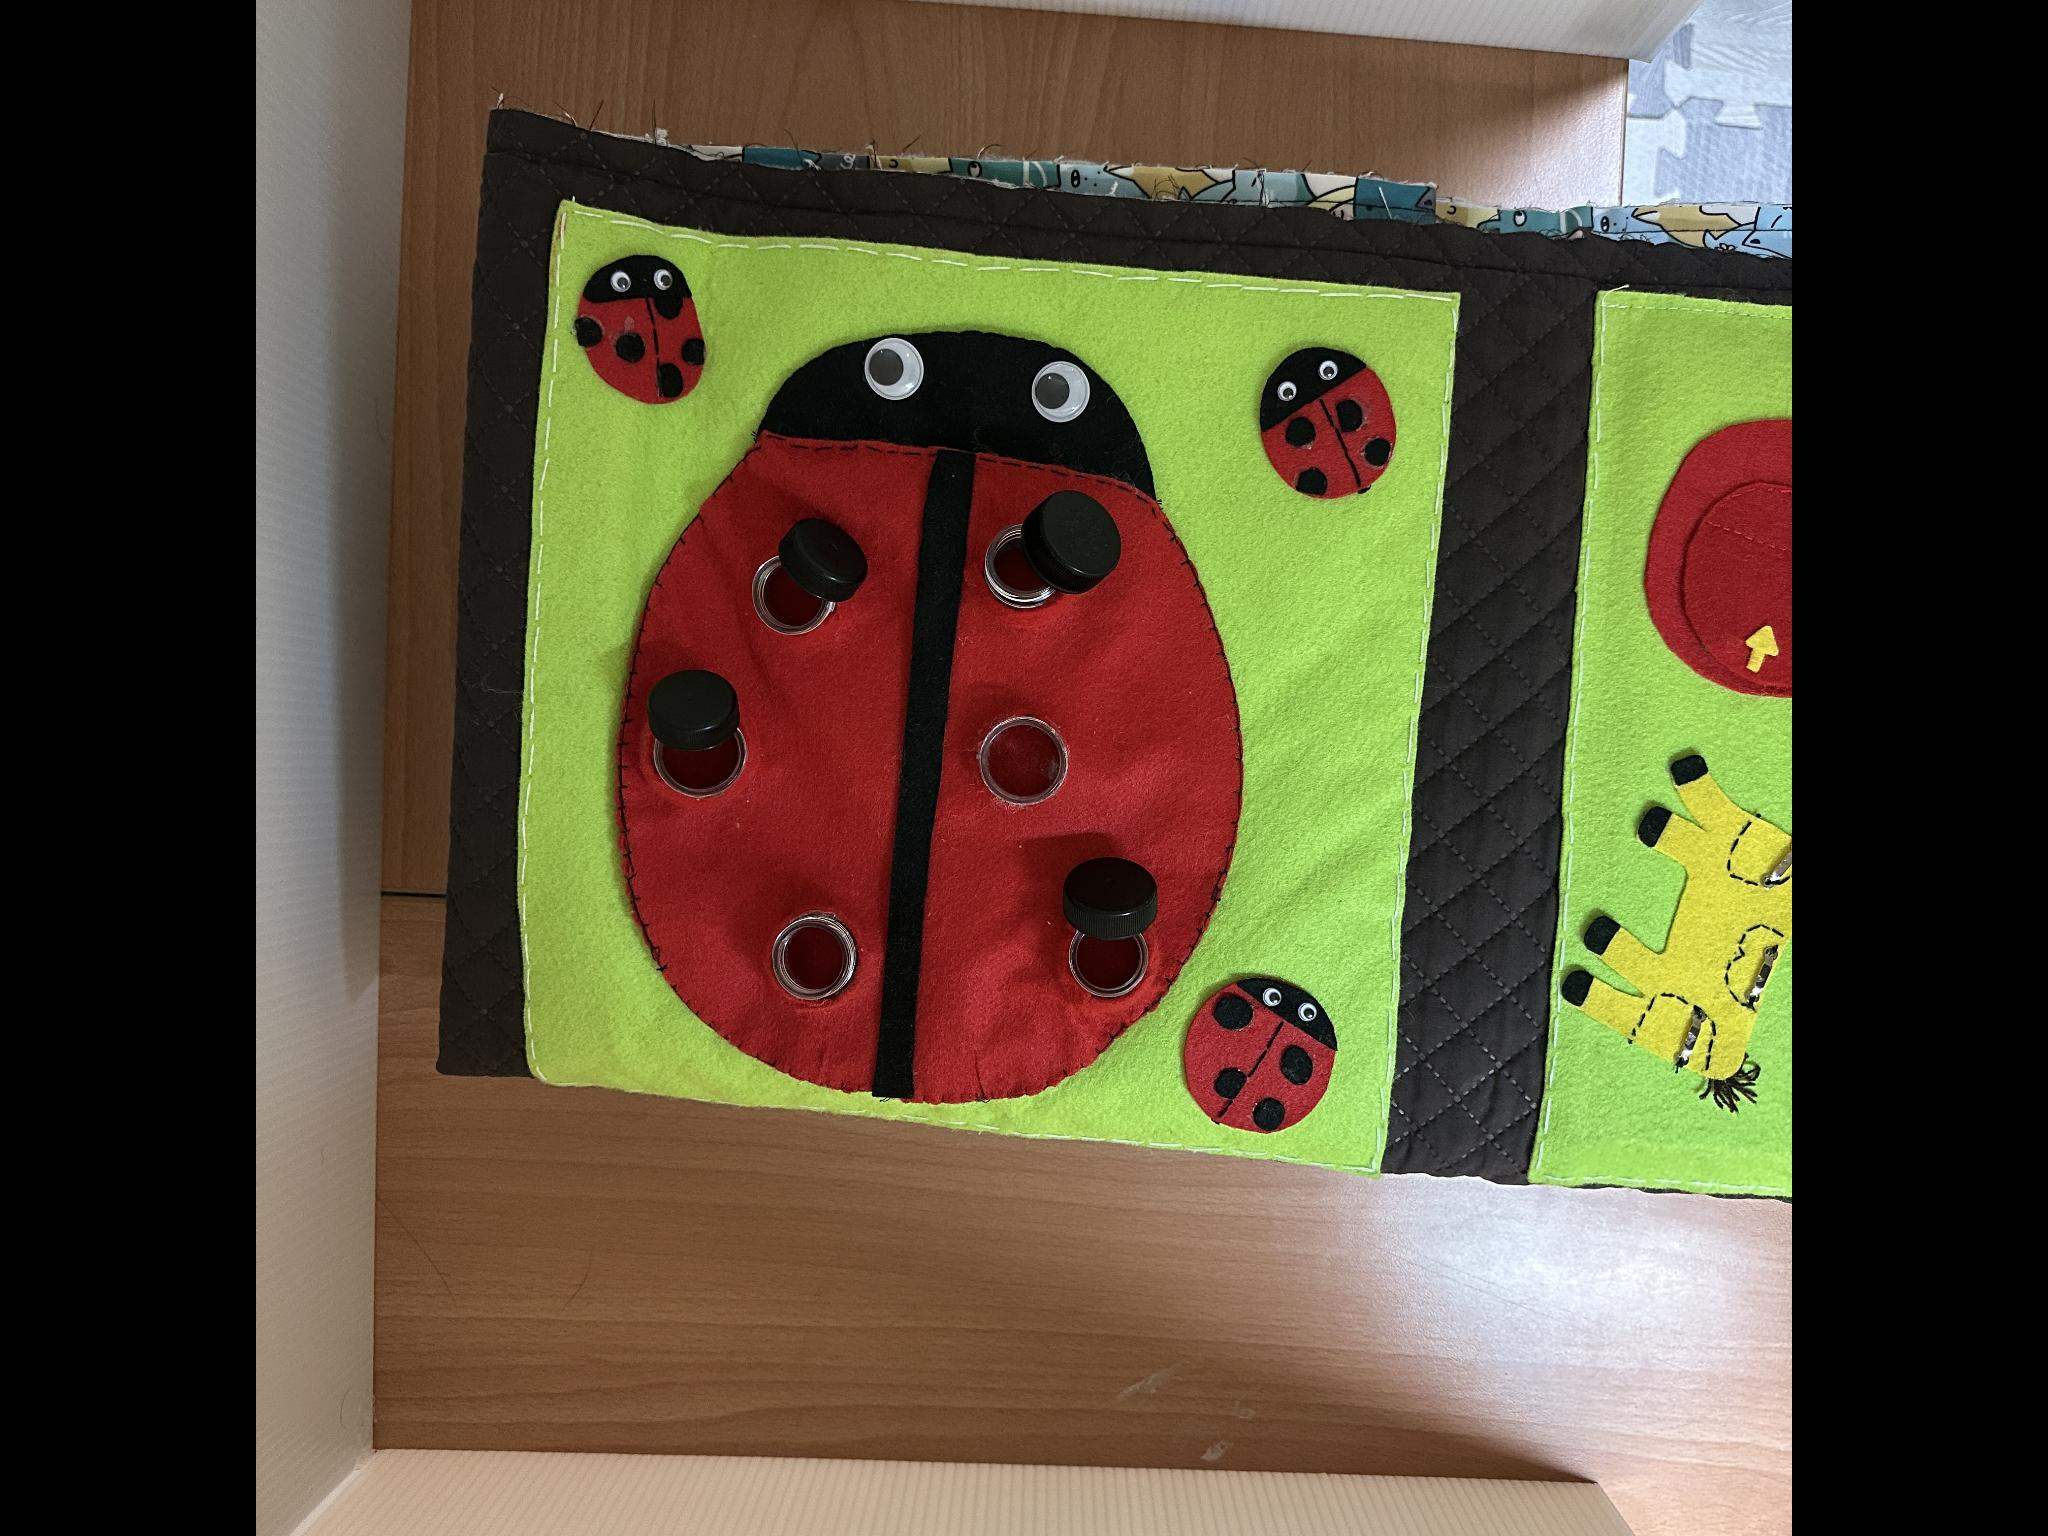cap_ng: (621, 645, 776, 834), (1042, 847, 1182, 1028), (966, 482, 1126, 637), (739, 500, 877, 670)
